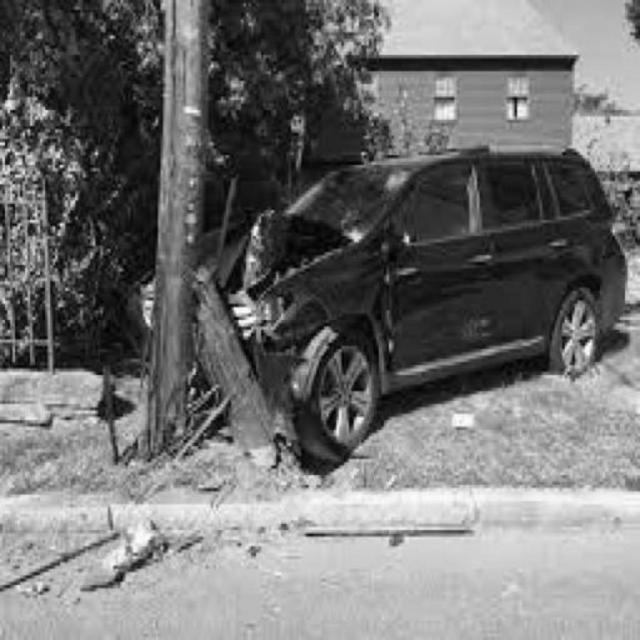accident: (108, 143, 630, 454)
